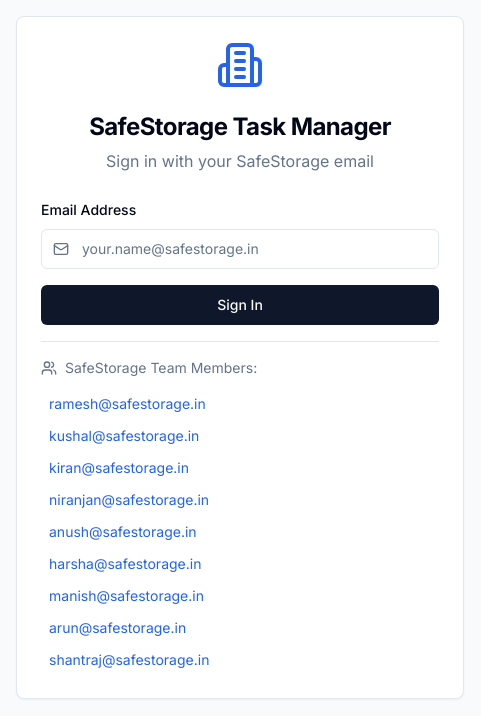
LoginForm - 100% Coverage › Team Member Selection › allows clicking on team member email to fill input
The width and height of the screenshot is (481, 716).
What coordinates should you click on to do the following:
click the button "ramesh@safestorage.in"
I would click on:
 (127, 403)
Its box is left=41, top=390, right=439, bottom=418.
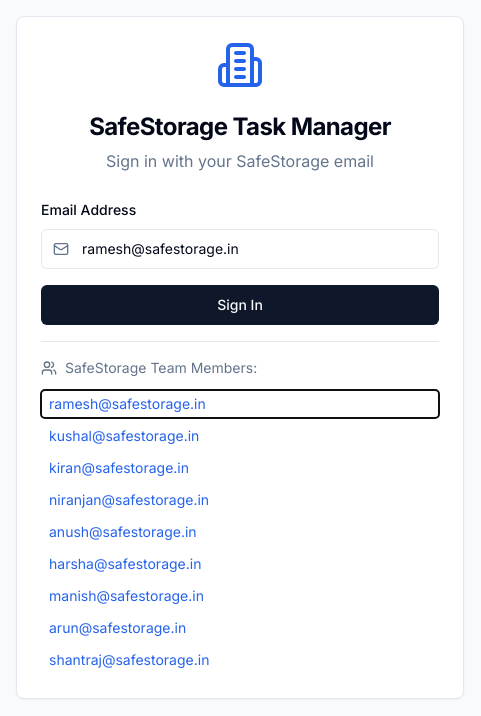
Result: the field labelled "Email Address" holds "ramesh@safestorage.in" at left=41, top=228, right=439, bottom=268
